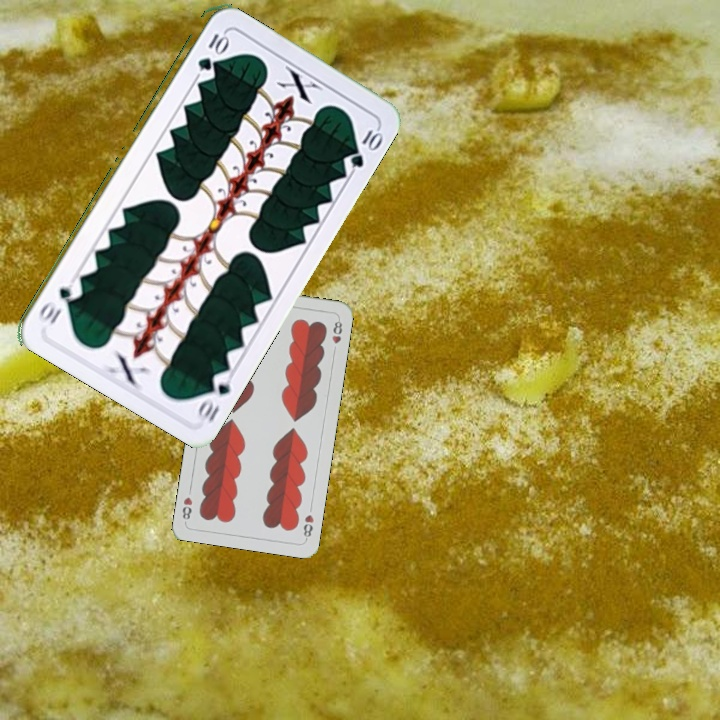G10: (193, 367, 236, 424), (193, 29, 229, 74)
H8: (299, 510, 316, 542)
